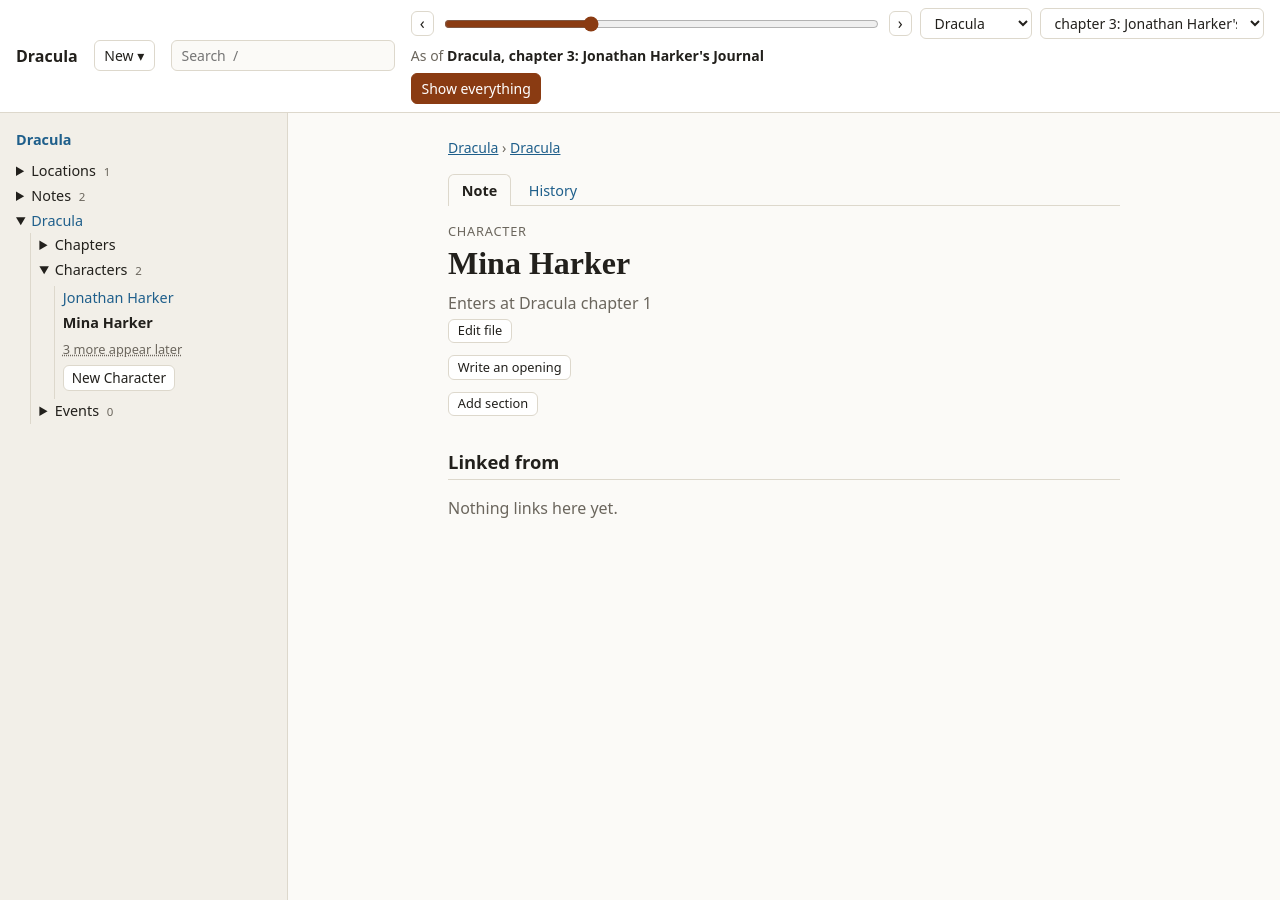
Test: SC-WEB-23: I look at a note’s history in the browser › opens from a History tab on the note’s page, keeping the position
The width and height of the screenshot is (1280, 900).
What coordinates should you click on to do the following:
click the link "History"
I would click on:
 (553, 190)
Its box is [529,181,577,200].
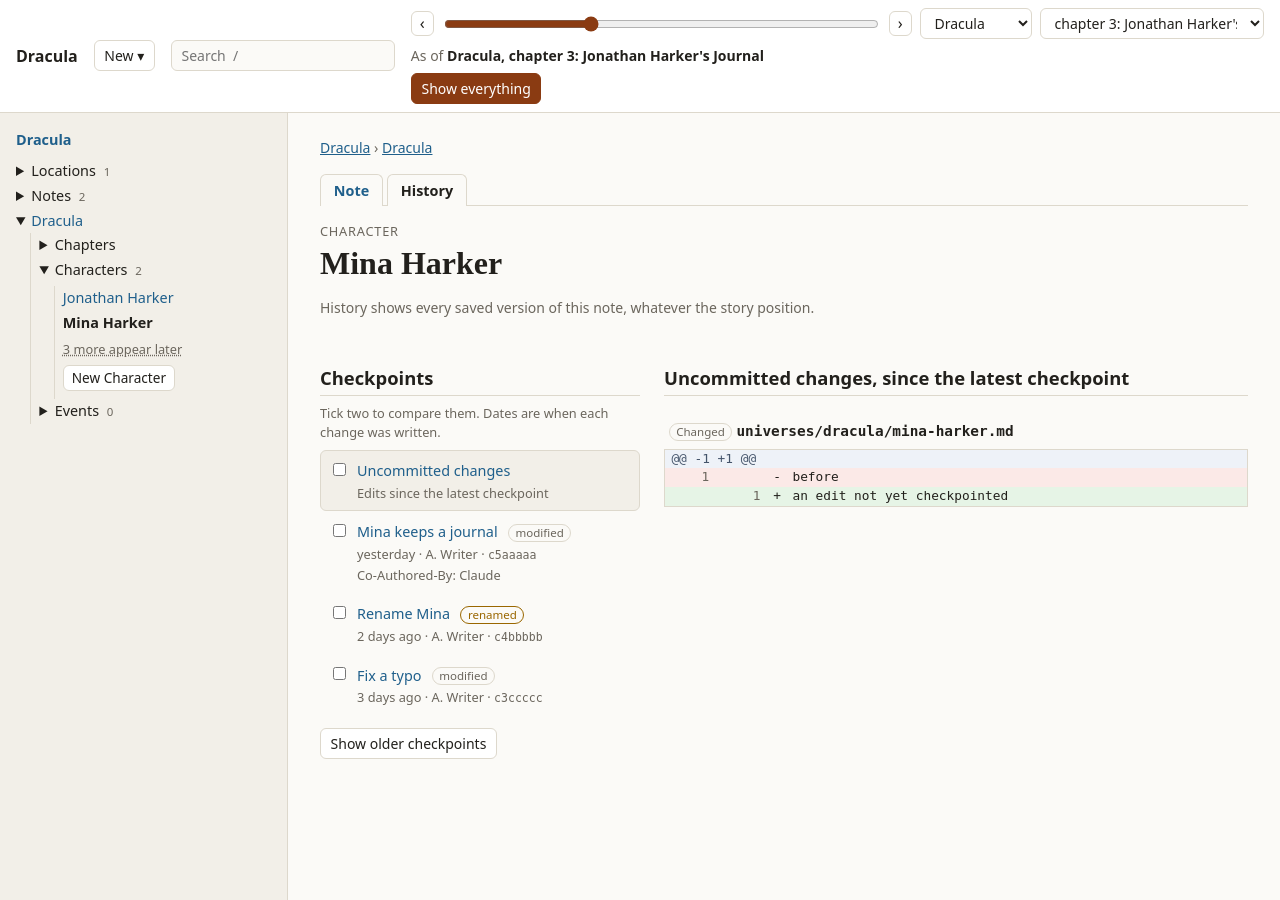
Expected: the heading "Checkpoints" is shown, [320,364,640,396]
Expected: the text "whatever the story position" is shown, [320,298,814,317]
